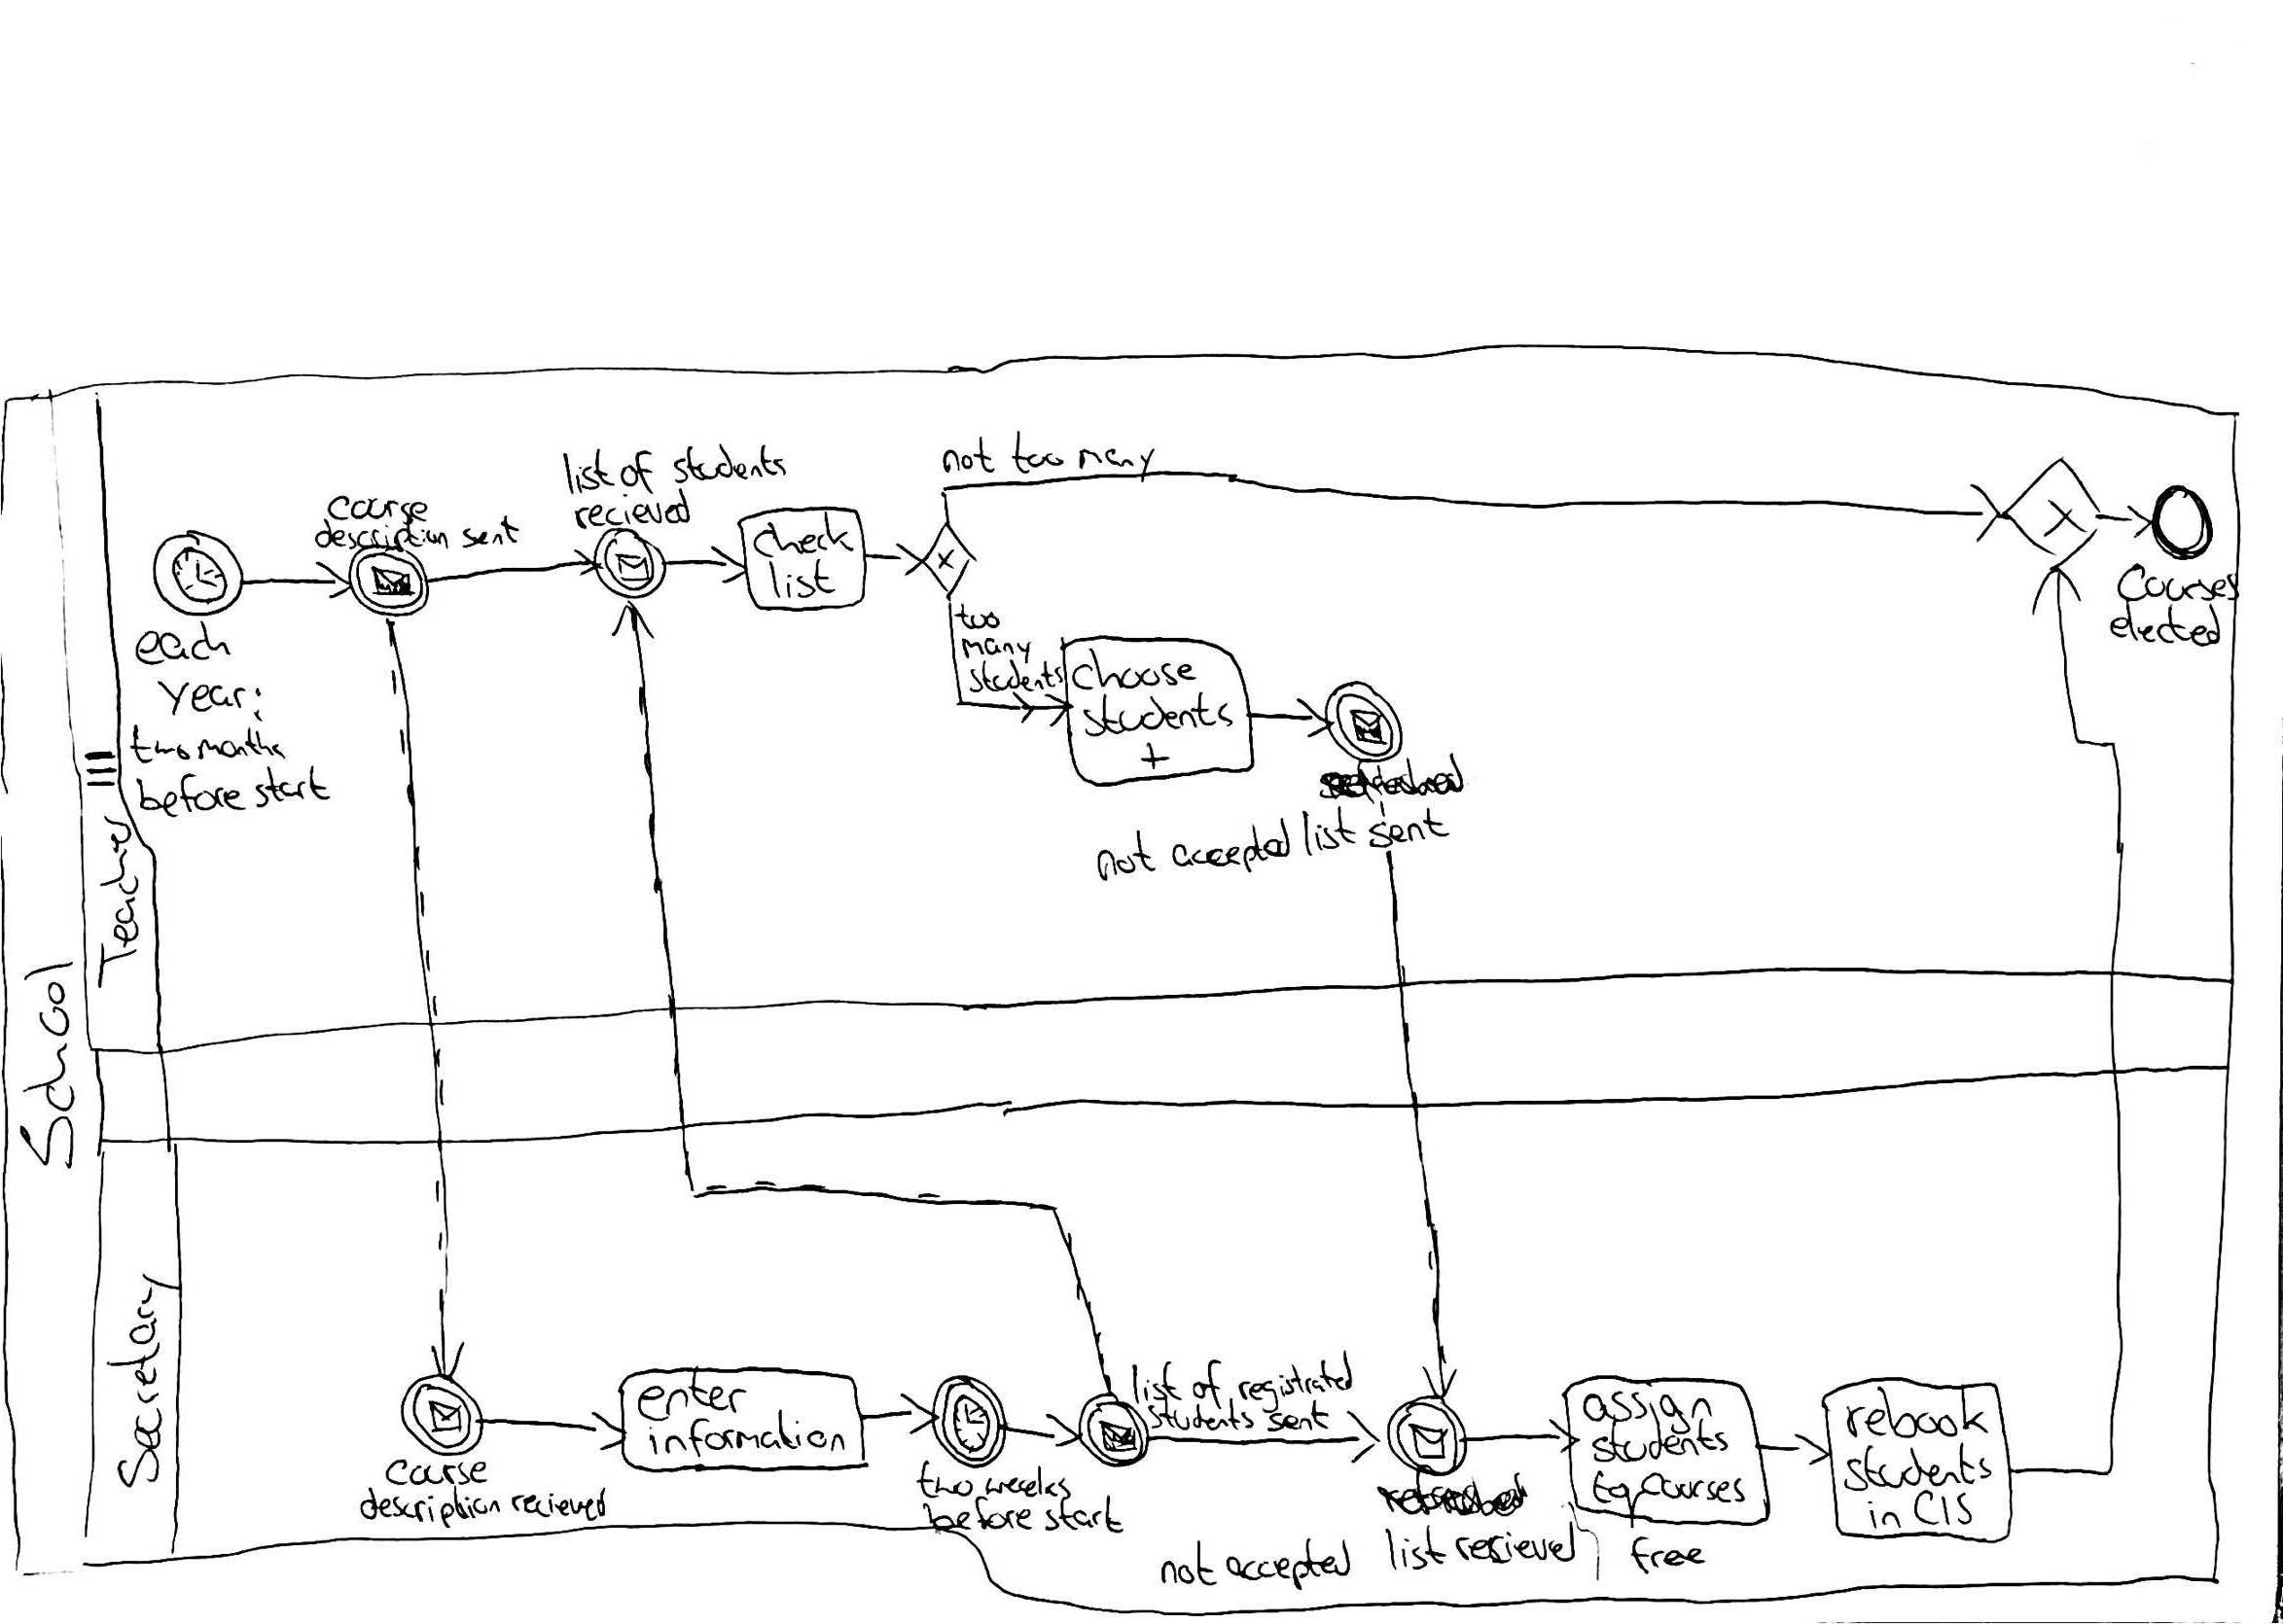CIS: (1912, 1489, 1977, 1529)
Check: (752, 512, 858, 562)
Courses: (2115, 562, 2244, 602)
III: (84, 746, 118, 794)
School: (18, 957, 79, 1170)
Secretary: (104, 1271, 176, 1488)
Students: (1146, 1397, 1261, 1431)
Teacher: (94, 814, 141, 993)
accepted: (1220, 1536, 1360, 1595), (1163, 832, 1291, 887)
assign: (1578, 1388, 1721, 1433)
before: (132, 767, 247, 821), (922, 1492, 1040, 1533)
choose: (1071, 647, 1202, 696)
course: (380, 1458, 495, 1493), (324, 491, 437, 522)
courses: (1636, 1469, 1754, 1500)
description: (359, 1488, 509, 1530), (309, 517, 455, 549)
each: (129, 619, 234, 666)
elected: (2106, 598, 2228, 644)
enter: (633, 1369, 752, 1424)
free: (1624, 1534, 1707, 1581)
in: (1865, 1495, 1907, 1530)
information: (642, 1411, 850, 1462)
list: (761, 559, 840, 603), (1291, 811, 1355, 863), (1382, 1522, 1447, 1572), (1129, 1355, 1188, 1407), (556, 447, 617, 499)
many: (1072, 446, 1156, 481), (958, 633, 1037, 662)
months: (194, 725, 292, 761)
not: (1088, 834, 1158, 884), (1155, 1536, 1219, 1589), (941, 436, 1000, 477)
of: (617, 445, 662, 497), (1188, 1357, 1229, 1411)
rebook: (1840, 1388, 1994, 1445)
recieved: (570, 491, 697, 533), (509, 1480, 615, 1520)
registrated: (1234, 1358, 1359, 1418)
resieved: (1450, 1520, 1585, 1565)
sent: (1360, 818, 1449, 857), (456, 512, 522, 551), (1265, 1400, 1336, 1436)
start: (1041, 1495, 1126, 1536), (248, 766, 331, 811)
students: (1841, 1445, 1998, 1498), (1078, 695, 1238, 741), (1592, 1419, 1736, 1465), (669, 441, 793, 485), (961, 657, 1071, 697)
to: (1587, 1470, 1633, 1502)
too: (1008, 429, 1066, 475), (953, 602, 1003, 637)
two: (126, 724, 195, 765), (916, 1462, 978, 1502)
weeks: (983, 1460, 1076, 1498)
year: (153, 677, 253, 718)
